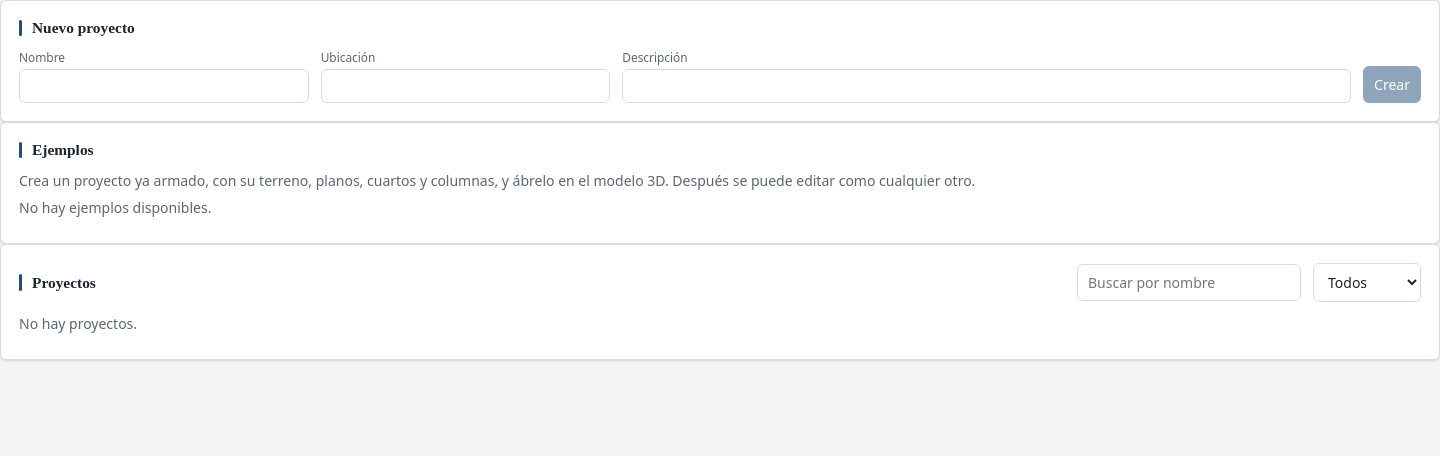
Test: ProjectsPage › creates a project from the labelled form and reloads the list
Check: the text "No hay proyectos." is shown, box [19,314,137,333]
Check: the button "Crear" is disabled, box [1363,66,1421,103]
Type " Casa Nueva " into the field labelled "Nombre" at (164, 86), box [19,69,309,103]
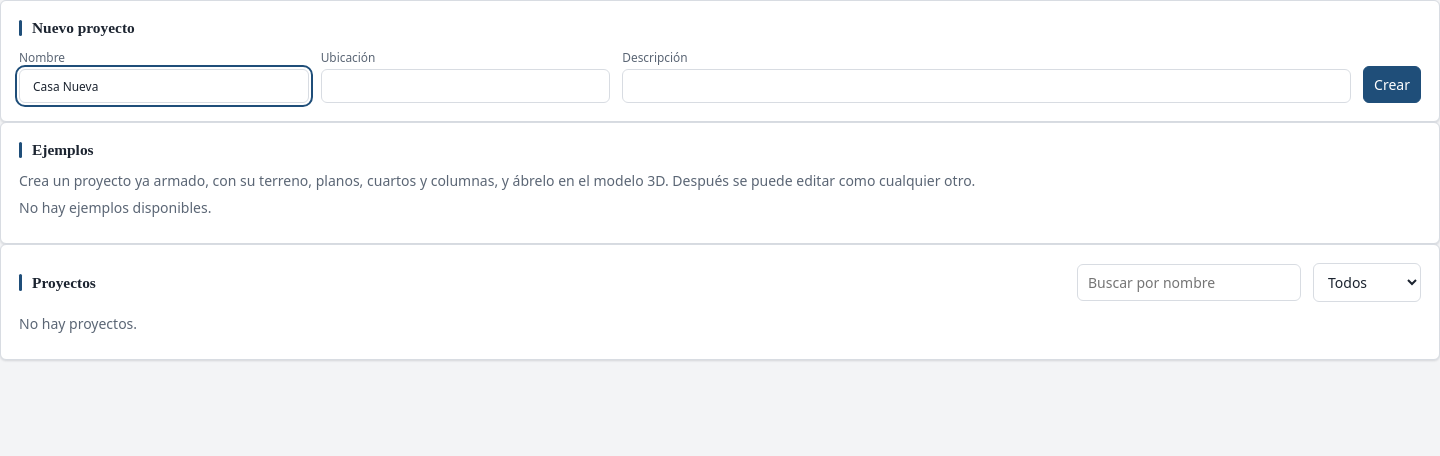
Type "Pasto" into the field labelled "Ubicación" at (465, 86), box [321,69,610,103]
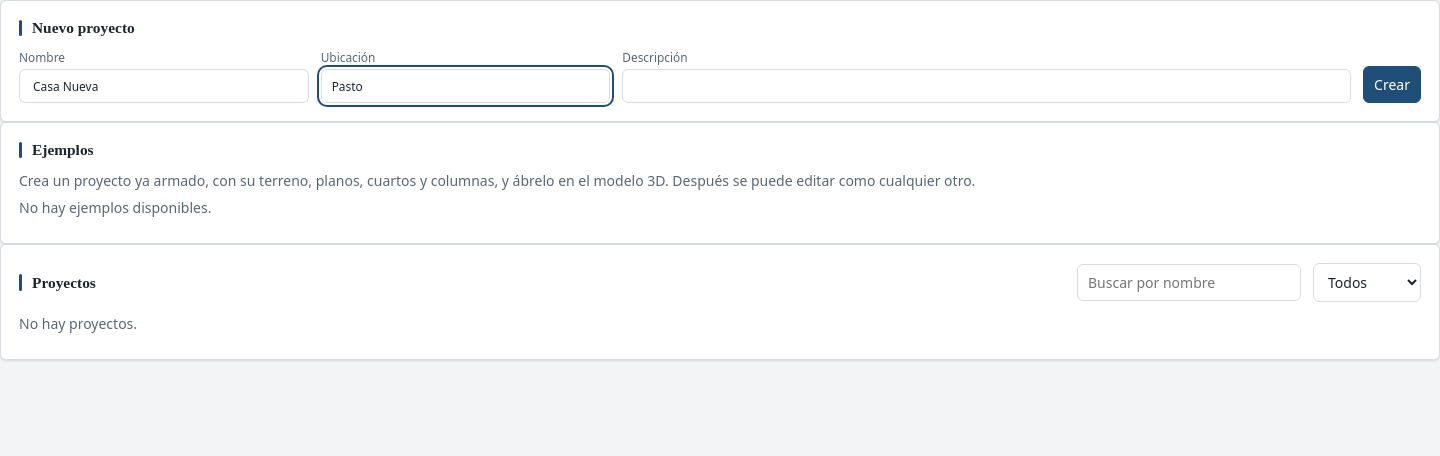
Click the button "Crear" at (1392, 84), box [1363,66,1421,103]
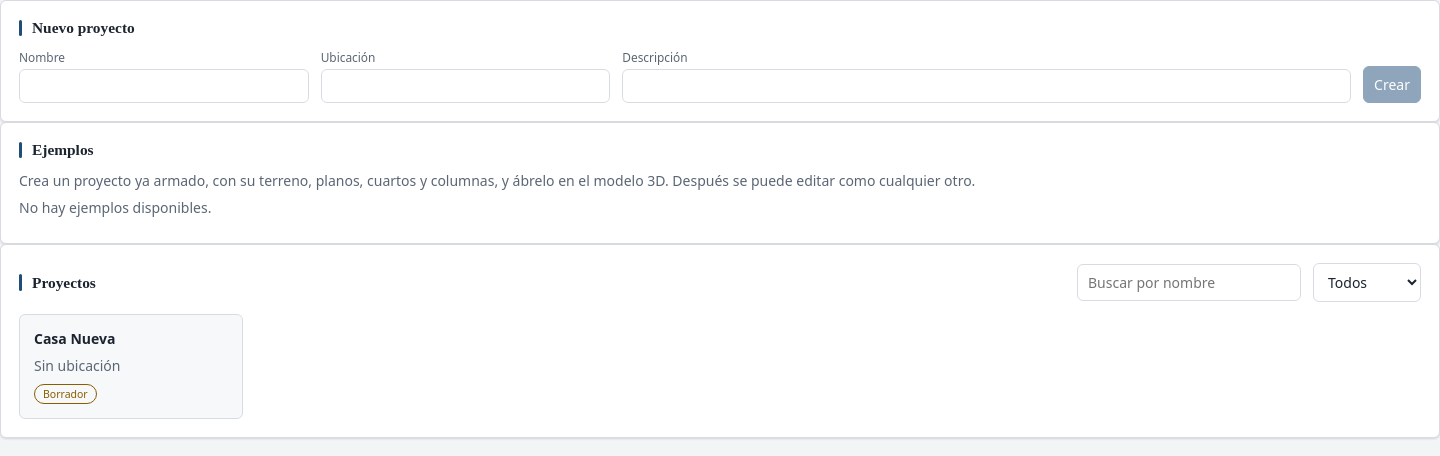
Check: the button "Casa Nueva Sin ubicación Borrador" is shown, box [19,314,243,419]
Check: the field labelled "Nombre" is empty, box [19,69,309,103]
